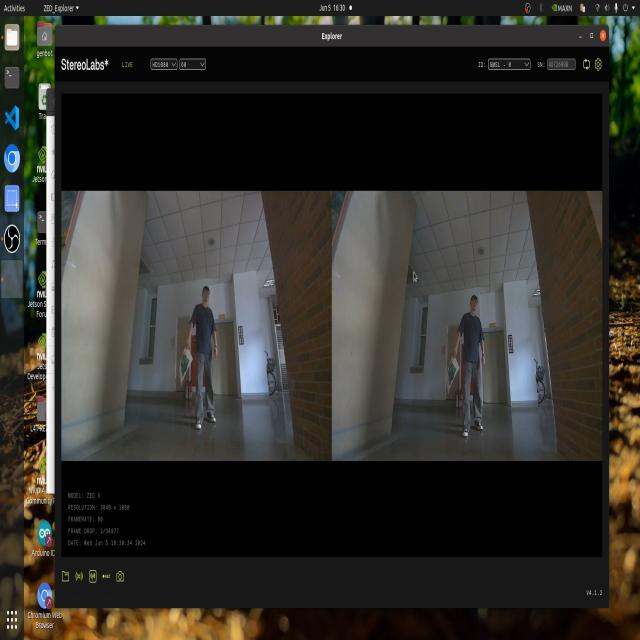green: (438, 362, 460, 385), (175, 348, 189, 374)
